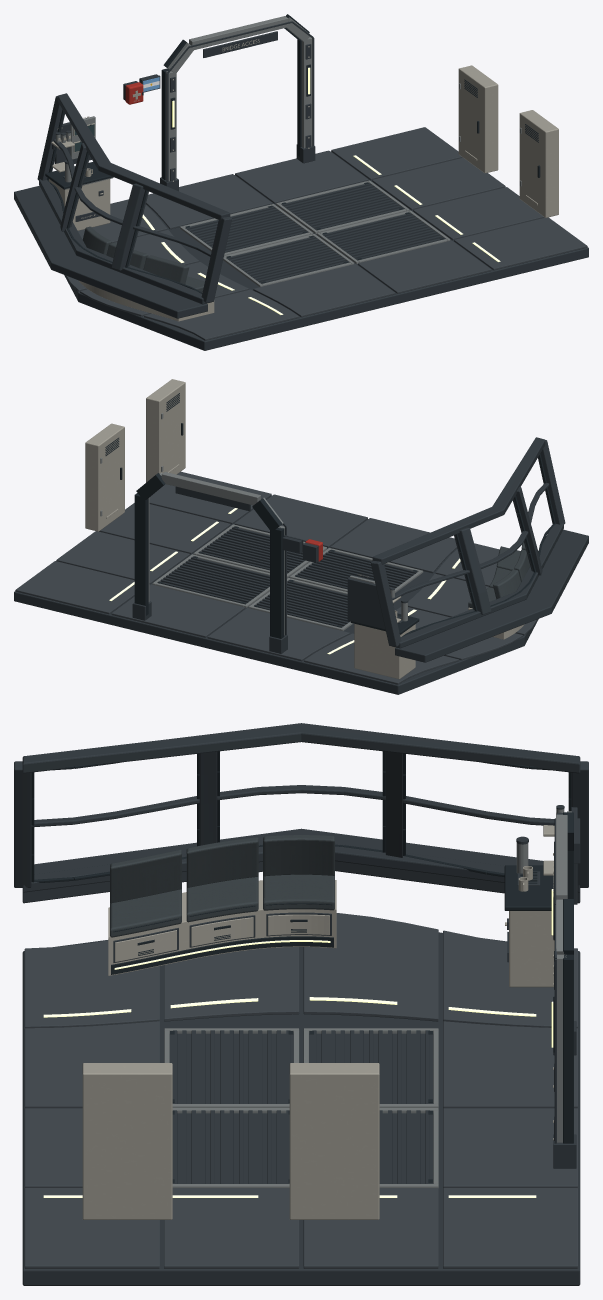
The model's file is cruz-del-sur-clean-arrival.glb.
The picture shows the model from 3 angles, top to bottom: view 1: azimuth 30°, elevation 25°; view 2: azimuth 150°, elevation 25°; view 3: azimuth 270°, elevation 25°; orthographic projection. The views are drawn at different scales.
Visible parts, largest first — view 1: REFINED_arrival_static_ARRIVAL V4 Graphite frame, REFINED_arrival_static_CDS DETAIL_Graphite deck - restrained, REFINED_arrival_static_ARRIVAL V4 Ivory cabinets, REFINED_arrival_static_ARRIVAL V4 Warm grey panels, REFINED_arrival_static_ARRIVAL V4 Gaskets, REFINED_arrival_static_ARRIVAL V4 Bench cushions, REFINED_arrival_static_ARRIVAL V4 Amber lamps; view 2: REFINED_arrival_static_ARRIVAL V4 Graphite frame, REFINED_arrival_static_CDS DETAIL_Graphite deck - restrained, REFINED_arrival_static_ARRIVAL V4 Ivory cabinets, REFINED_arrival_static_ARRIVAL V4 Gaskets, REFINED_arrival_static_ARRIVAL V4 Warm grey panels, REFINED_arrival_static_ARRIVAL V4 Bench cushions, REFINED_arrival_static_ARRIVAL V4 Amber lamps; view 3: REFINED_arrival_static_CDS DETAIL_Graphite deck - restrained, REFINED_arrival_static_ARRIVAL V4 Graphite frame, REFINED_arrival_static_ARRIVAL V4 Ivory cabinets, REFINED_arrival_static_ARRIVAL V4 Bench cushions, REFINED_arrival_static_ARRIVAL V4 Gaskets, REFINED_arrival_static_ARRIVAL V4 Warm grey panels, REFINED_arrival_static_ARRIVAL V4 Amber lamps.
Boxes of the visible parts, x1=… form: REFINED_arrival_static_ARRIVAL V4 Graphite frame: x1=14, y1=21, x2=588, y2=350; REFINED_arrival_static_CDS DETAIL_Graphite deck - restrained: x1=65, y1=127, x2=587, y2=340; REFINED_arrival_static_ARRIVAL V4 Ivory cabinets: x1=49, y1=46, x2=558, y2=321; REFINED_arrival_static_ARRIVAL V4 Warm grey panels: x1=56, y1=16, x2=521, y2=286; REFINED_arrival_static_ARRIVAL V4 Gaskets: x1=45, y1=14, x2=540, y2=293; REFINED_arrival_static_ARRIVAL V4 Bench cushions: x1=82, y1=226, x2=204, y2=292; REFINED_arrival_static_ARRIVAL V4 Amber lamps: x1=142, y1=67, x2=500, y2=314; REFINED_arrival_static_ARRIVAL V4 Graphite frame: x1=14, y1=437, x2=588, y2=694; REFINED_arrival_static_CDS DETAIL_Graphite deck - restrained: x1=15, y1=471, x2=537, y2=684; REFINED_arrival_static_ARRIVAL V4 Ivory cabinets: x1=85, y1=379, x2=524, y2=679; REFINED_arrival_static_ARRIVAL V4 Gaskets: x1=105, y1=393, x2=555, y2=638; REFINED_arrival_static_ARRIVAL V4 Warm grey panels: x1=100, y1=413, x2=423, y2=635; REFINED_arrival_static_ARRIVAL V4 Bench cushions: x1=468, y1=542, x2=530, y2=608; REFINED_arrival_static_ARRIVAL V4 Amber lamps: x1=109, y1=508, x2=460, y2=654; REFINED_arrival_static_CDS DETAIL_Graphite deck - restrained: x1=24, y1=913, x2=577, y2=1268; REFINED_arrival_static_ARRIVAL V4 Graphite frame: x1=14, y1=723, x2=588, y2=1285; REFINED_arrival_static_ARRIVAL V4 Ivory cabinets: x1=82, y1=813, x2=556, y2=1219; REFINED_arrival_static_ARRIVAL V4 Bench cushions: x1=110, y1=835, x2=334, y2=937; REFINED_arrival_static_ARRIVAL V4 Gaskets: x1=31, y1=751, x2=573, y2=1182; REFINED_arrival_static_ARRIVAL V4 Warm grey panels: x1=164, y1=809, x2=571, y2=1187; REFINED_arrival_static_ARRIVAL V4 Amber lamps: x1=43, y1=889, x2=553, y2=1197.
Bounding box in the file's own units: 9.96 × 3.34 × 6.39.
Materials: 16 (5 with a texture image).
